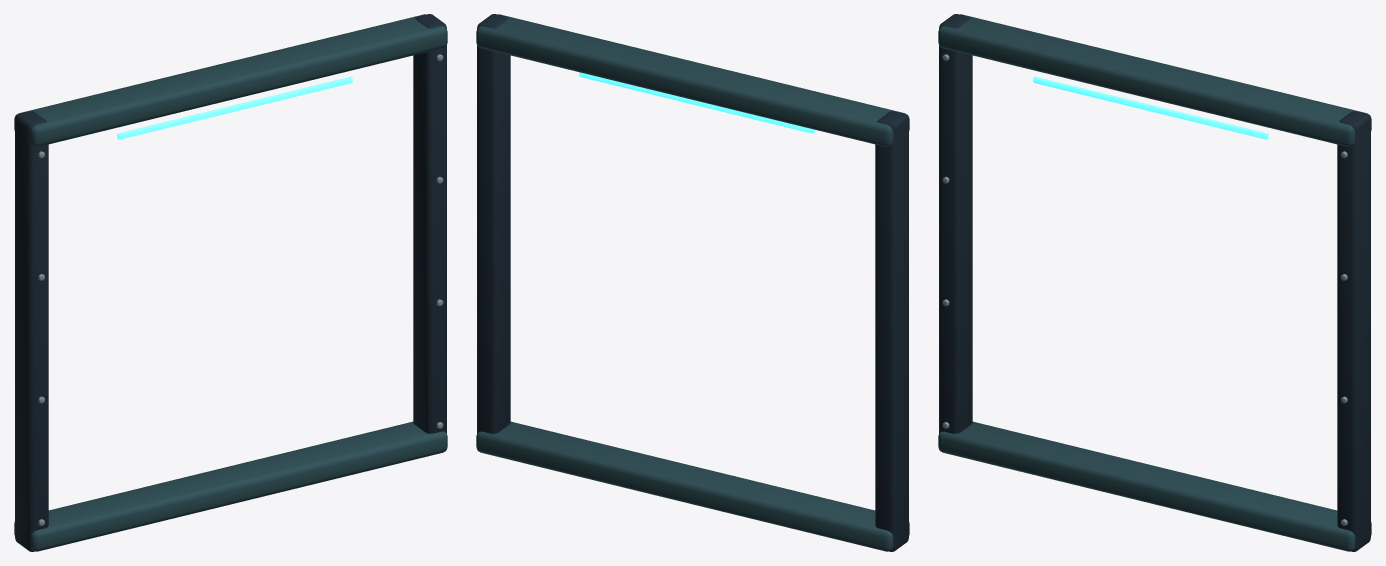
File: observation_frame.glb
The picture shows the model from 3 angles, left to right: view 1: azimuth 30°, elevation 25°; view 2: azimuth 150°, elevation 25°; view 3: azimuth 330°, elevation 25°; orthographic projection.
Parts seen in each view (by area): view 1: Observation window sill, Window pressure mullion, Window service light; view 2: Observation window sill, Window pressure mullion, Window service light; view 3: Observation window sill, Window pressure mullion, Window service light.
Part boxes in pixels (x1=…): Observation window sill: x1=14, y1=14, x2=447, y2=551; Window pressure mullion: x1=15, y1=14, x2=446, y2=551; Window service light: x1=117, y1=76, x2=352, y2=139; Observation window sill: x1=476, y1=14, x2=909, y2=551; Window pressure mullion: x1=477, y1=14, x2=908, y2=551; Window service light: x1=579, y1=72, x2=814, y2=133; Observation window sill: x1=938, y1=14, x2=1371, y2=551; Window pressure mullion: x1=939, y1=14, x2=1370, y2=551; Window service light: x1=1033, y1=76, x2=1268, y2=139.
Size of the model in its own units: 7.15 by 7 by 0.65.
